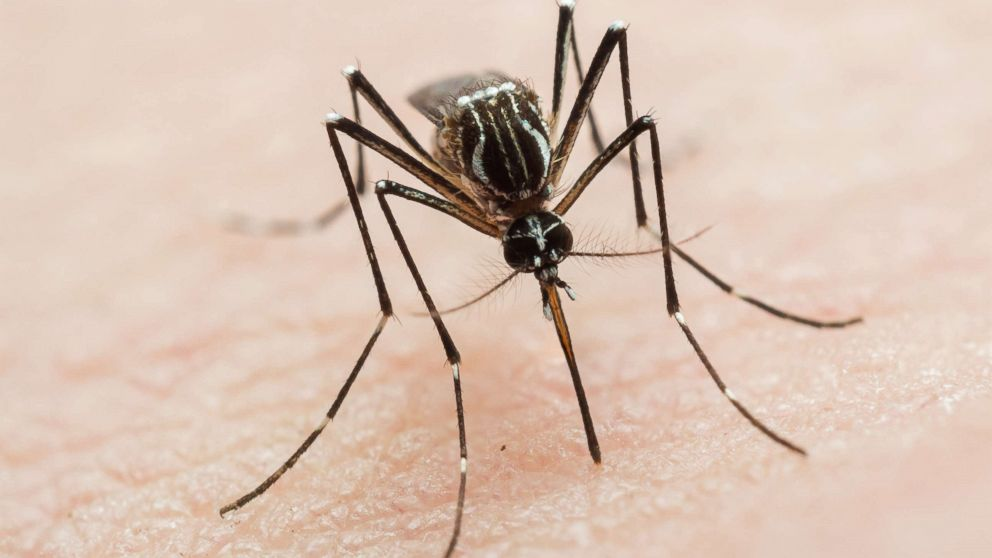dengue_mosquito: (320, 1, 814, 453)
